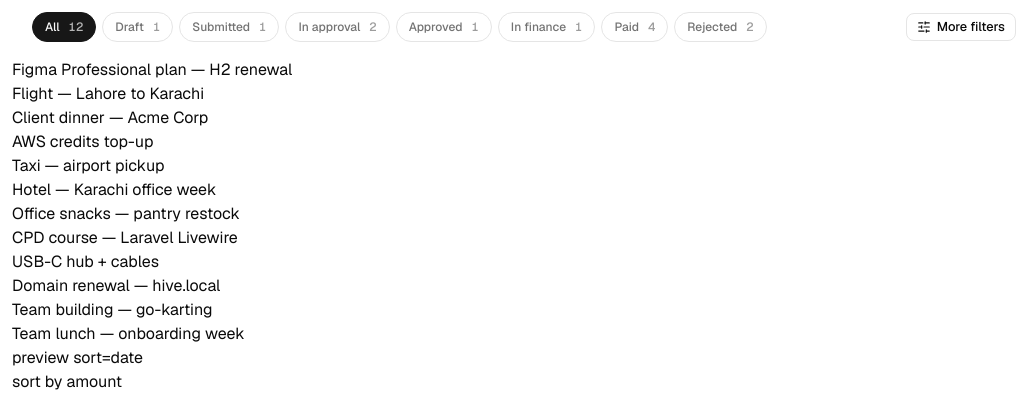
ExpenseFilterSection quick chips › returns to All when the All chip is pressed again
The image size is (1033, 407).
Click the button "Rejected 2" at (720, 27), box [674,12,766,42]
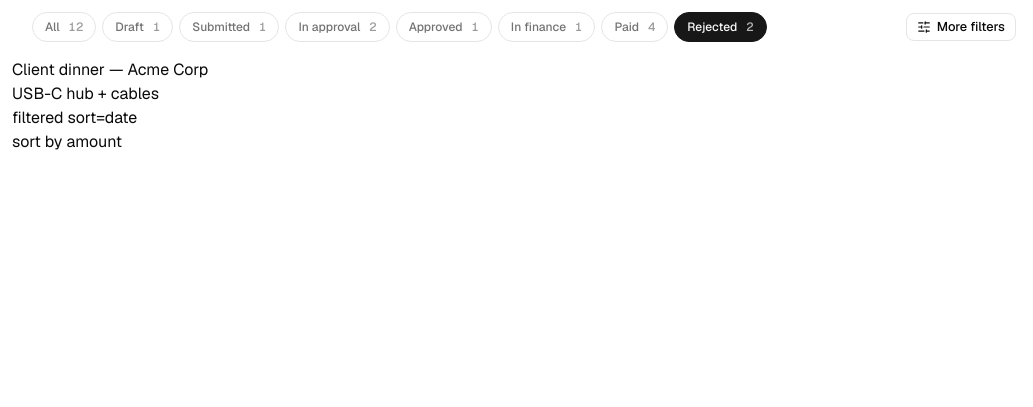
Click the button "All 12" at (64, 27), box [32,12,96,42]
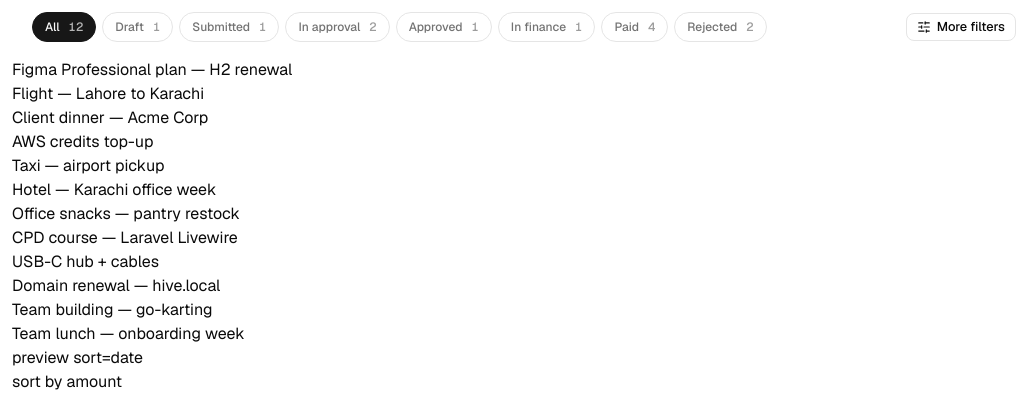
Now the number of list items is 12
